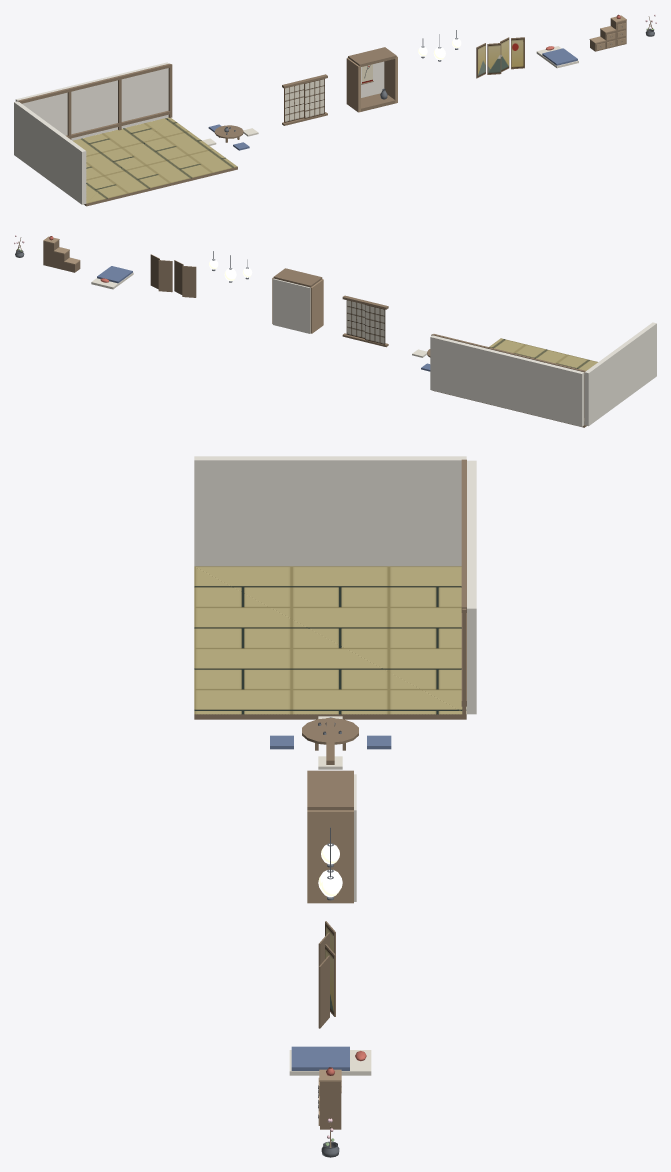
The model's file is kit-23-interior-asia.glb.
3 views of the same model, one above another, from view 1: azimuth 30°, elevation 25°; view 2: azimuth 150°, elevation 25°; view 3: azimuth 270°, elevation 25° (orthographic). The views are drawn at different scales.
Parts seen in each view (by area): view 1: AsiaIn_RuangTatami, AsiaIn_Tokonoma, AsiaIn_PintuShoji, AsiaIn_LayarByobu, AsiaIn_LemariTansu, AsiaIn_MejaChabudai, AsiaIn_Futon, AsiaIn_LampionKertas; view 2: AsiaIn_RuangTatami, AsiaIn_Tokonoma, AsiaIn_PintuShoji, AsiaIn_LayarByobu, AsiaIn_LemariTansu, AsiaIn_Futon, AsiaIn_LampionKertas; view 3: AsiaIn_RuangTatami, AsiaIn_Tokonoma, AsiaIn_Futon, AsiaIn_MejaChabudai, AsiaIn_LayarByobu, AsiaIn_LemariTansu.
Part boxes in pixels (x1,y1,x2,y2): AsiaIn_RuangTatami: (14,62,237,206); AsiaIn_Tokonoma: (346,47,397,112); AsiaIn_PintuShoji: (282,74,327,125); AsiaIn_LayarByobu: (476,37,524,78); AsiaIn_LemariTansu: (589,14,626,51); AsiaIn_MejaChabudai: (202,124,258,150); AsiaIn_Futon: (536,46,578,68); AsiaIn_LampionKertas: (418,30,461,61); AsiaIn_RuangTatami: (430,322,656,427); AsiaIn_Tokonoma: (272,268,323,333); AsiaIn_PintuShoji: (342,295,388,347); AsiaIn_LayarByobu: (150,254,196,297); AsiaIn_LemariTansu: (43,236,80,272); AsiaIn_Futon: (91,266,133,289); AsiaIn_LampionKertas: (209,251,252,282); AsiaIn_RuangTatami: (194,456,476,719); AsiaIn_Tokonoma: (307,770,356,903); AsiaIn_Futon: (289,1046,371,1075); AsiaIn_MejaChabudai: (270,716,391,769); AsiaIn_LayarByobu: (318,921,335,1028); AsiaIn_LemariTansu: (318,1067,341,1129).
Bounding box in the file's own units: 36.12 × 3.18 × 7.26.
Materials: 14 (4 with a texture image).
